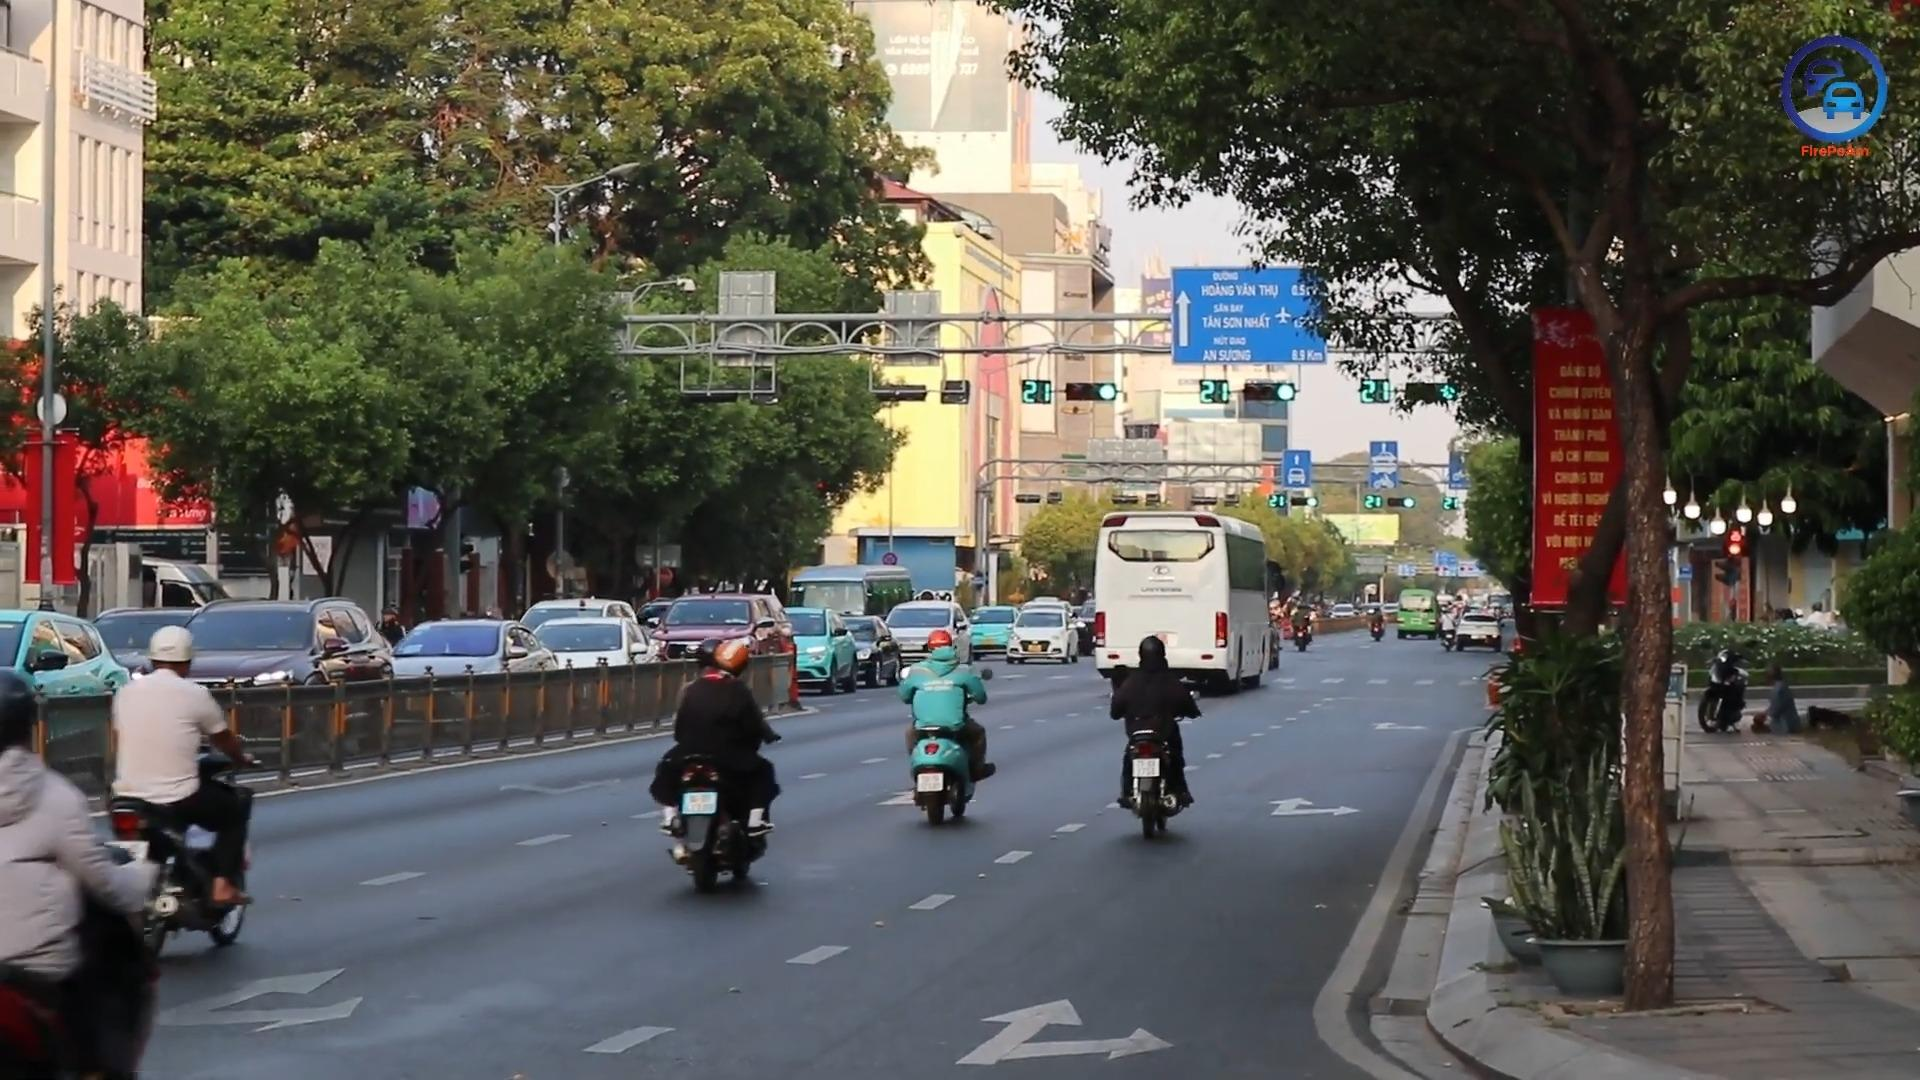bien_so: (681, 791, 719, 815), (914, 772, 944, 793), (1131, 758, 1161, 778)
